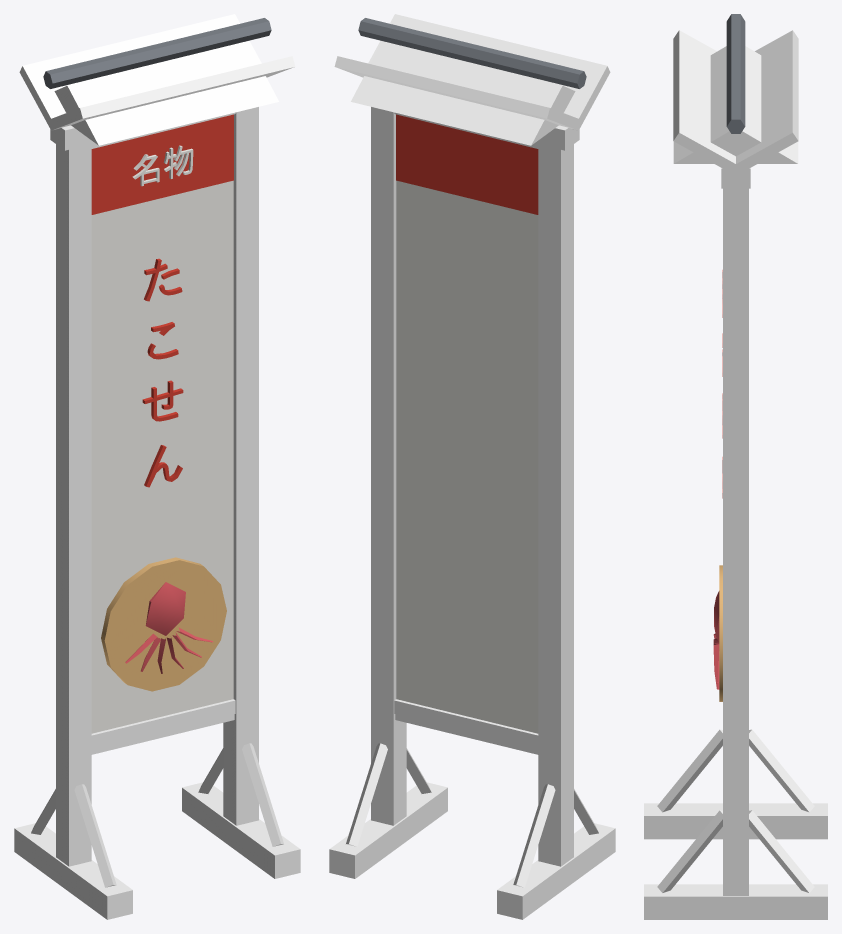
Rendered from kanban_tako.glb.
The picture shows the model from 3 angles, left to right: view 1: azimuth 30°, elevation 25°; view 2: azimuth 150°, elevation 25°; view 3: azimuth 270°, elevation 25°; orthographic projection.
Visible parts, largest first — view 1: kanban_tako_body; view 2: kanban_tako_body; view 3: kanban_tako_body.
Boxes of the visible parts, <box> form: kanban_tako_body: <box>14,14,300,919</box>; kanban_tako_body: <box>329,14,615,919</box>; kanban_tako_body: <box>644,14,827,919</box>.
Size of what is drawn, in the model's own units: 0.68 by 2.42 by 0.5.
